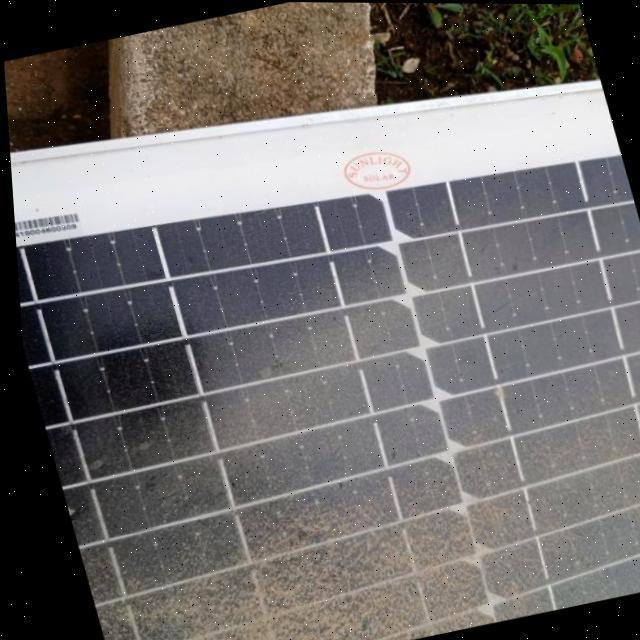Surface Contaminant: (14, 150, 640, 640)
